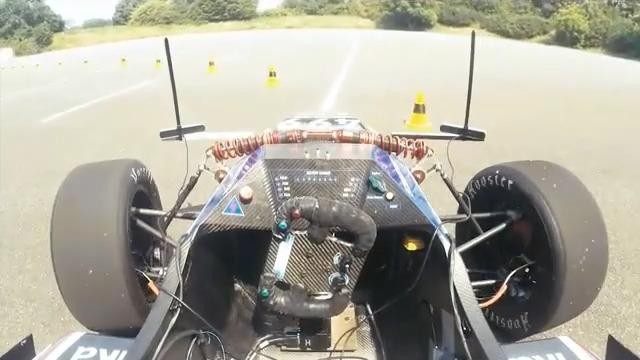yellow_cone: (394, 93, 440, 124), (259, 60, 283, 88), (199, 56, 221, 76)
